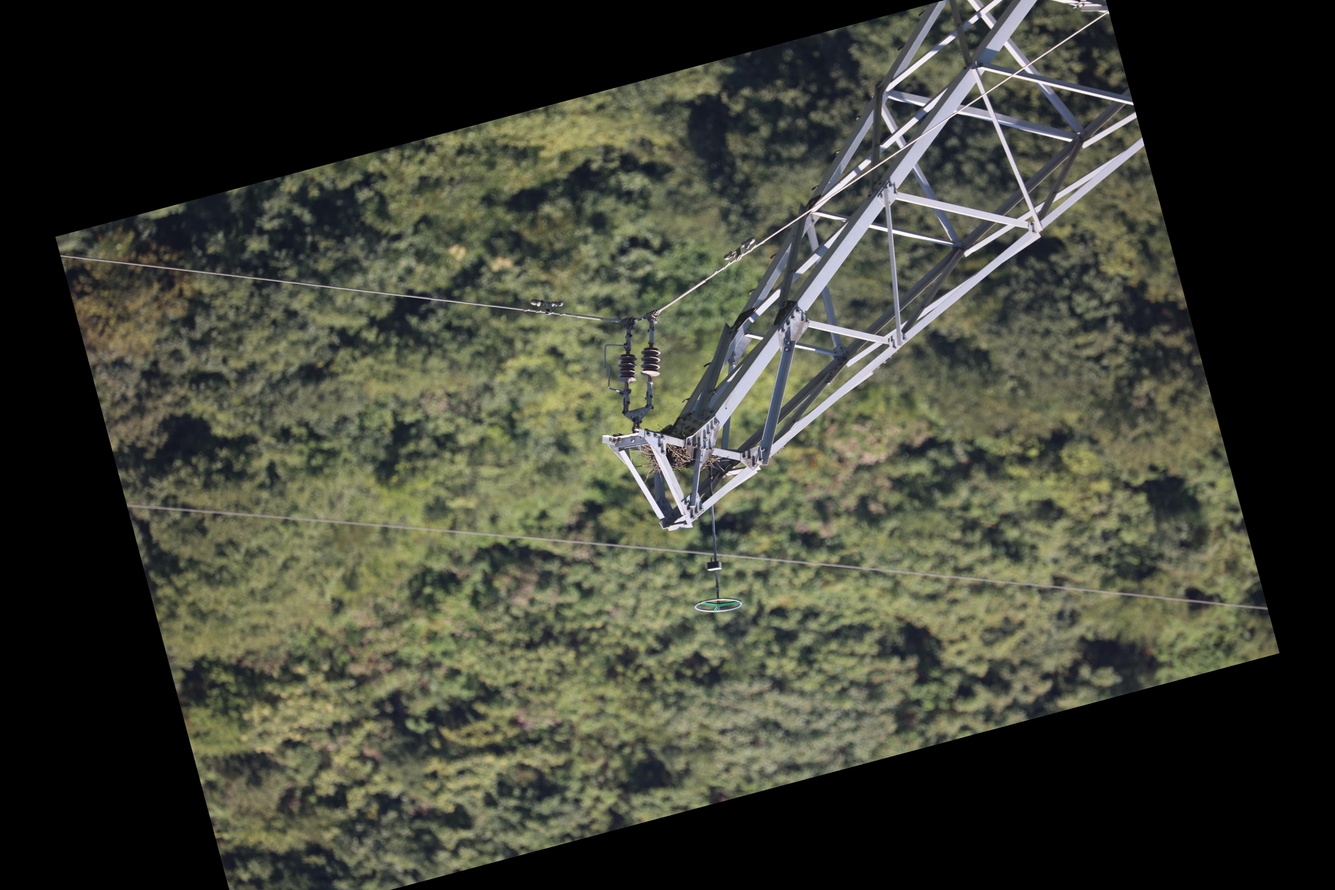damper: (719, 234, 762, 266), (527, 290, 567, 320)
